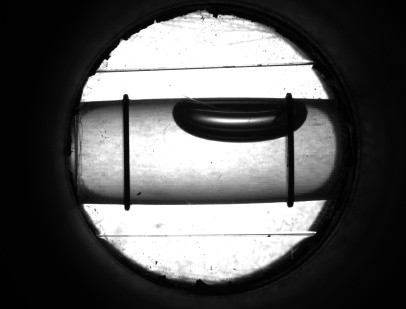line: (118, 113, 134, 189), (279, 143, 300, 190)
